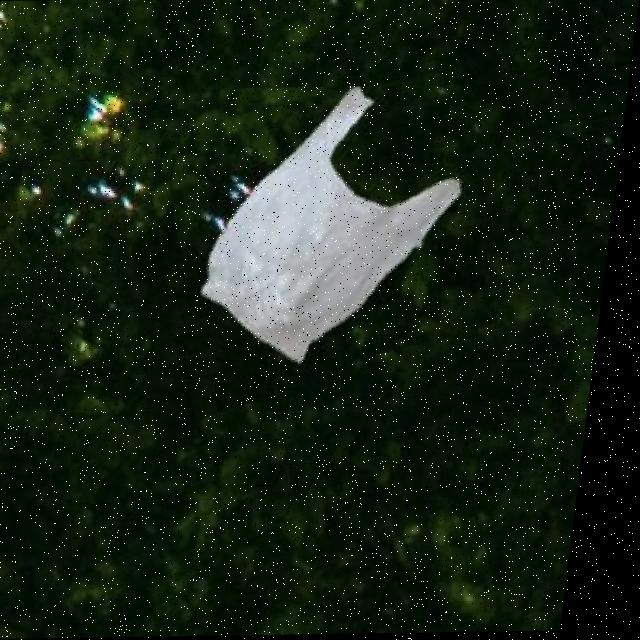plasticcover: (142, 85, 511, 402)
